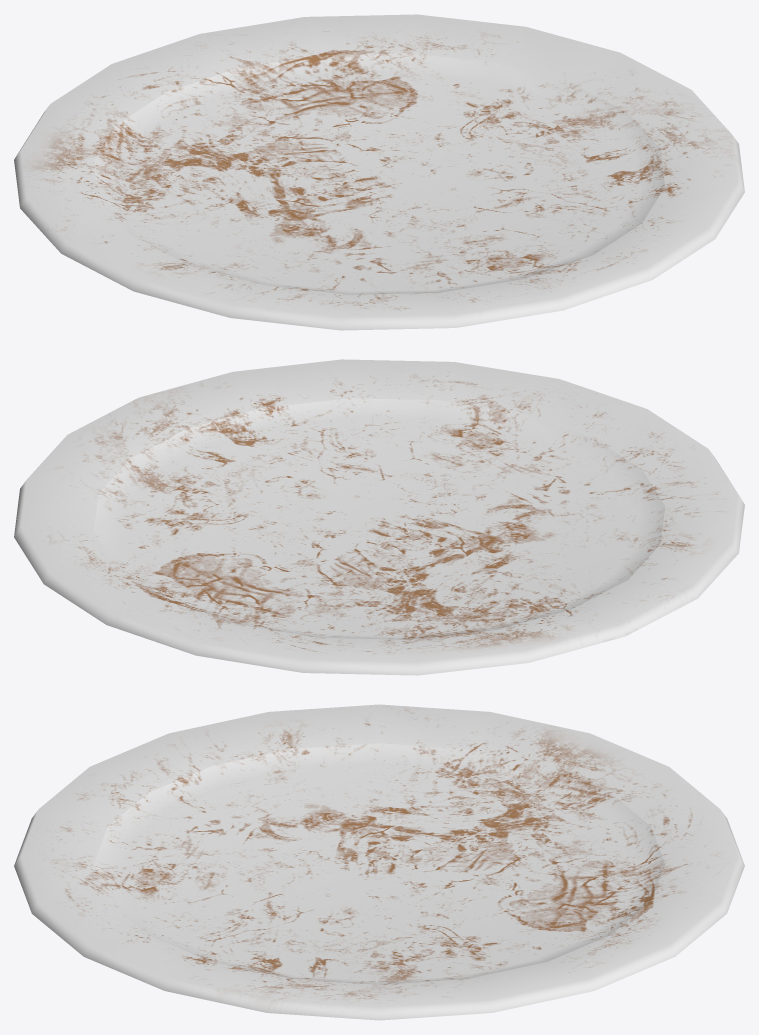
File: dirty_plate.glb
3 views of the same model, one above another, from view 1: azimuth 30°, elevation 25°; view 2: azimuth 150°, elevation 25°; view 3: azimuth 270°, elevation 25° (orthographic).
Visible parts, largest first — view 1: pCylinder1; view 2: pCylinder1; view 3: pCylinder1.
Part boxes in pixels (<box>): pCylinder1: <box>14,14,744,330</box>; pCylinder1: <box>14,359,744,675</box>; pCylinder1: <box>14,704,744,1020</box>.
Bounding box in the file's own units: 163 × 8 × 163.
1 material, 1 textured.
